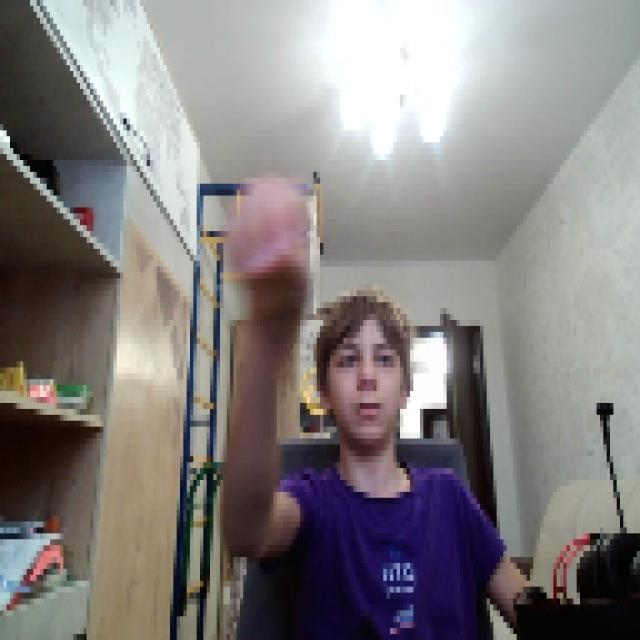left_click: (223, 160, 310, 314)
